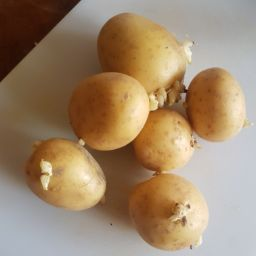Russet potato: (25, 9, 251, 255), (88, 8, 195, 105), (116, 170, 214, 254), (54, 68, 153, 150), (13, 135, 109, 213), (180, 61, 248, 150), (131, 108, 206, 177)
